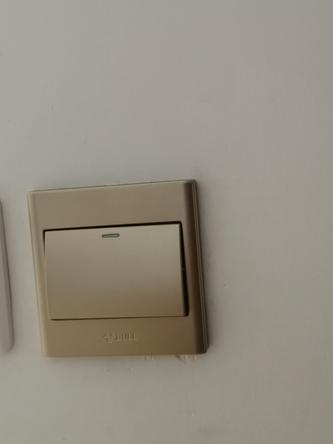switch: (35, 216, 189, 330)
